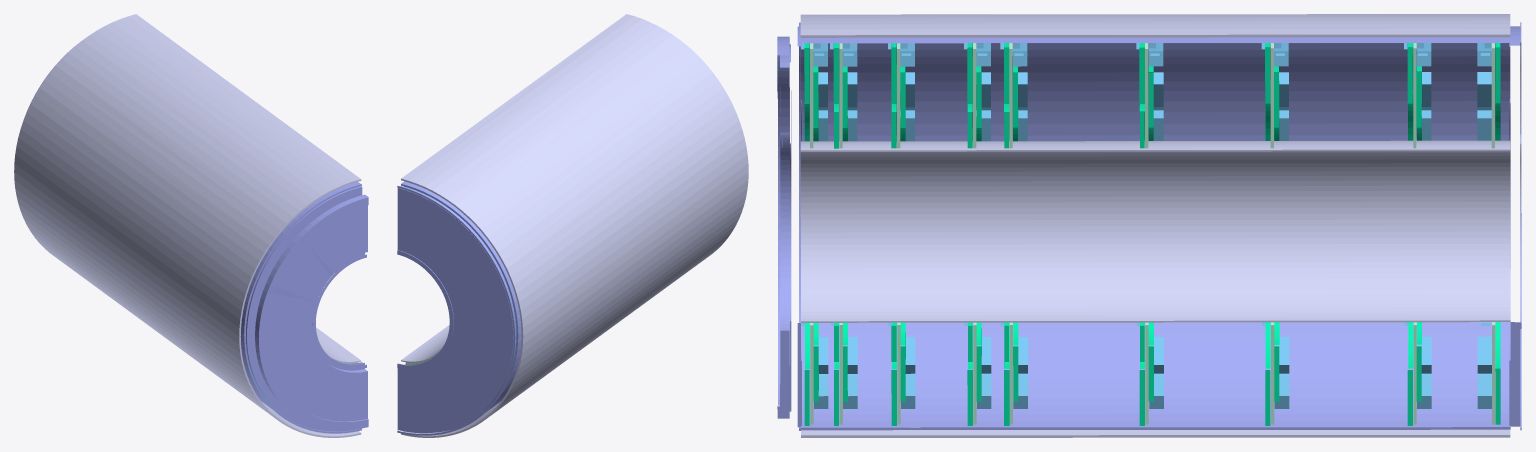
The model's file is SCT-SideC-cut2.glb.
3 renders of one model, left to right at view 1: azimuth 30°, elevation 25°; view 2: azimuth 150°, elevation 25°; view 3: azimuth 270°, elevation 25°, orthographic. The views are drawn at different scales.
Visible parts, largest first — view 1: null; view 2: null; view 3: null.
Boxes of the visible parts, x1,y1,x2,y2 form: null: (14, 14, 368, 437); null: (397, 14, 748, 437); null: (777, 14, 1521, 437).
Size of the model in its own units: 0.6092 by 1.22 by 2.04.
